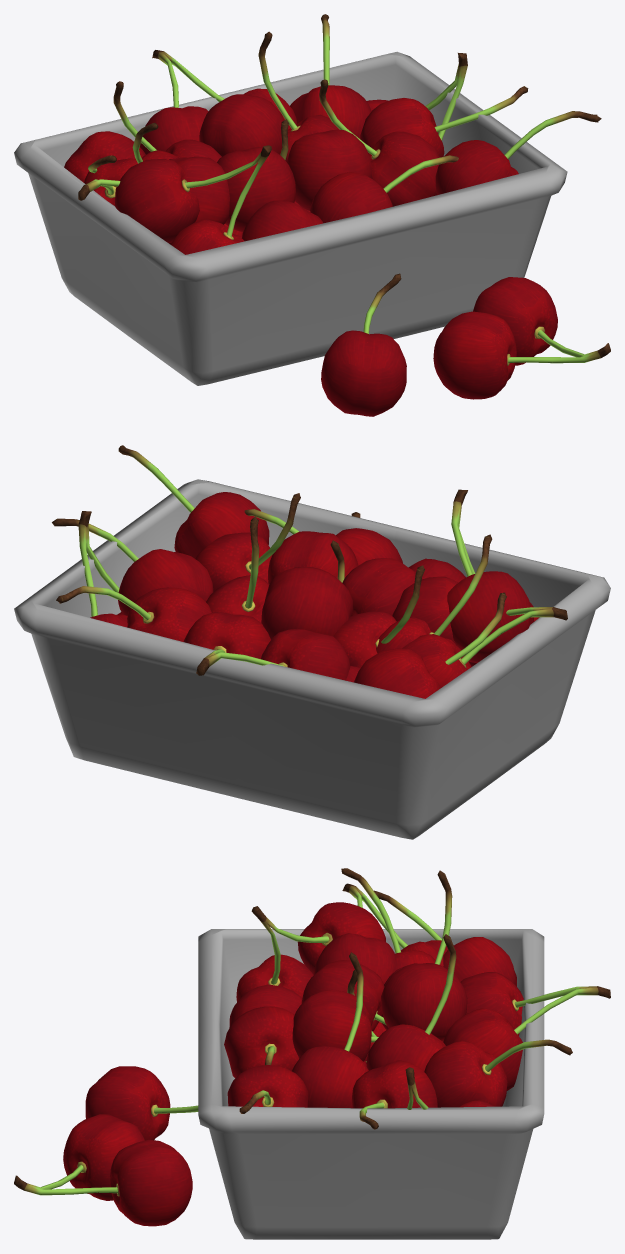
Rendered from cherries.fbx.
3 renders of one model, top to bottom at view 1: azimuth 30°, elevation 25°; view 2: azimuth 150°, elevation 25°; view 3: azimuth 270°, elevation 25°, orthographic. The views are drawn at different scales.
Parts seen in each view (by area): view 1: pCube3, cherry3 (×10), cherry2a (×6), cherry2b (×4), cherrystem2 (×4), cherrystem1 (×5); view 2: pCube3, cherry3 (×10), cherry2b (×4), cherry2a (×4), cherrystem1 (×8), cherrystem2 (×4); view 3: pCube3, cherry3 (×10), cherry2b (×4), cherry2a (×6), cherrystem1 (×6), cherrystem2 (×4).
Part boxes in pixels (left/top/right/bottom): pCube3: left=14, top=51, right=567, bottom=385; cherry3 (×10): left=64, top=85, right=518, bottom=416; cherry2a (×6): left=140, top=106, right=516, bottom=399; cherry2b (×4): left=84, top=129, right=557, bottom=365; cherrystem2 (×4): left=152, top=50, right=610, bottom=365; cherrystem1 (×5): left=258, top=31, right=601, bottom=192; pCube3: left=14, top=479, right=610, bottom=839; cherry3 (×10): left=118, top=492, right=455, bottom=698; cherry2b (×4): left=183, top=531, right=534, bottom=687; cherry2a (×4): left=261, top=558, right=465, bottom=680; cherrystem1 (×8): left=52, top=445, right=506, bottom=664; cherrystem2 (×4): left=78, top=489, right=567, bottom=675; pCube3: left=198, top=929, right=544, bottom=1239; cherry3 (×10): left=85, top=937, right=516, bottom=1140; cherry2b (×4): left=110, top=902, right=522, bottom=1226; cherry2a (×6): left=63, top=933, right=523, bottom=1200; cherrystem1 (×6): left=341, top=868, right=572, bottom=1075; cherrystem2 (×4): left=14, top=883, right=610, bottom=1196.
Bounding box in the file's own units: 4.62 × 2.34 × 5.13.
